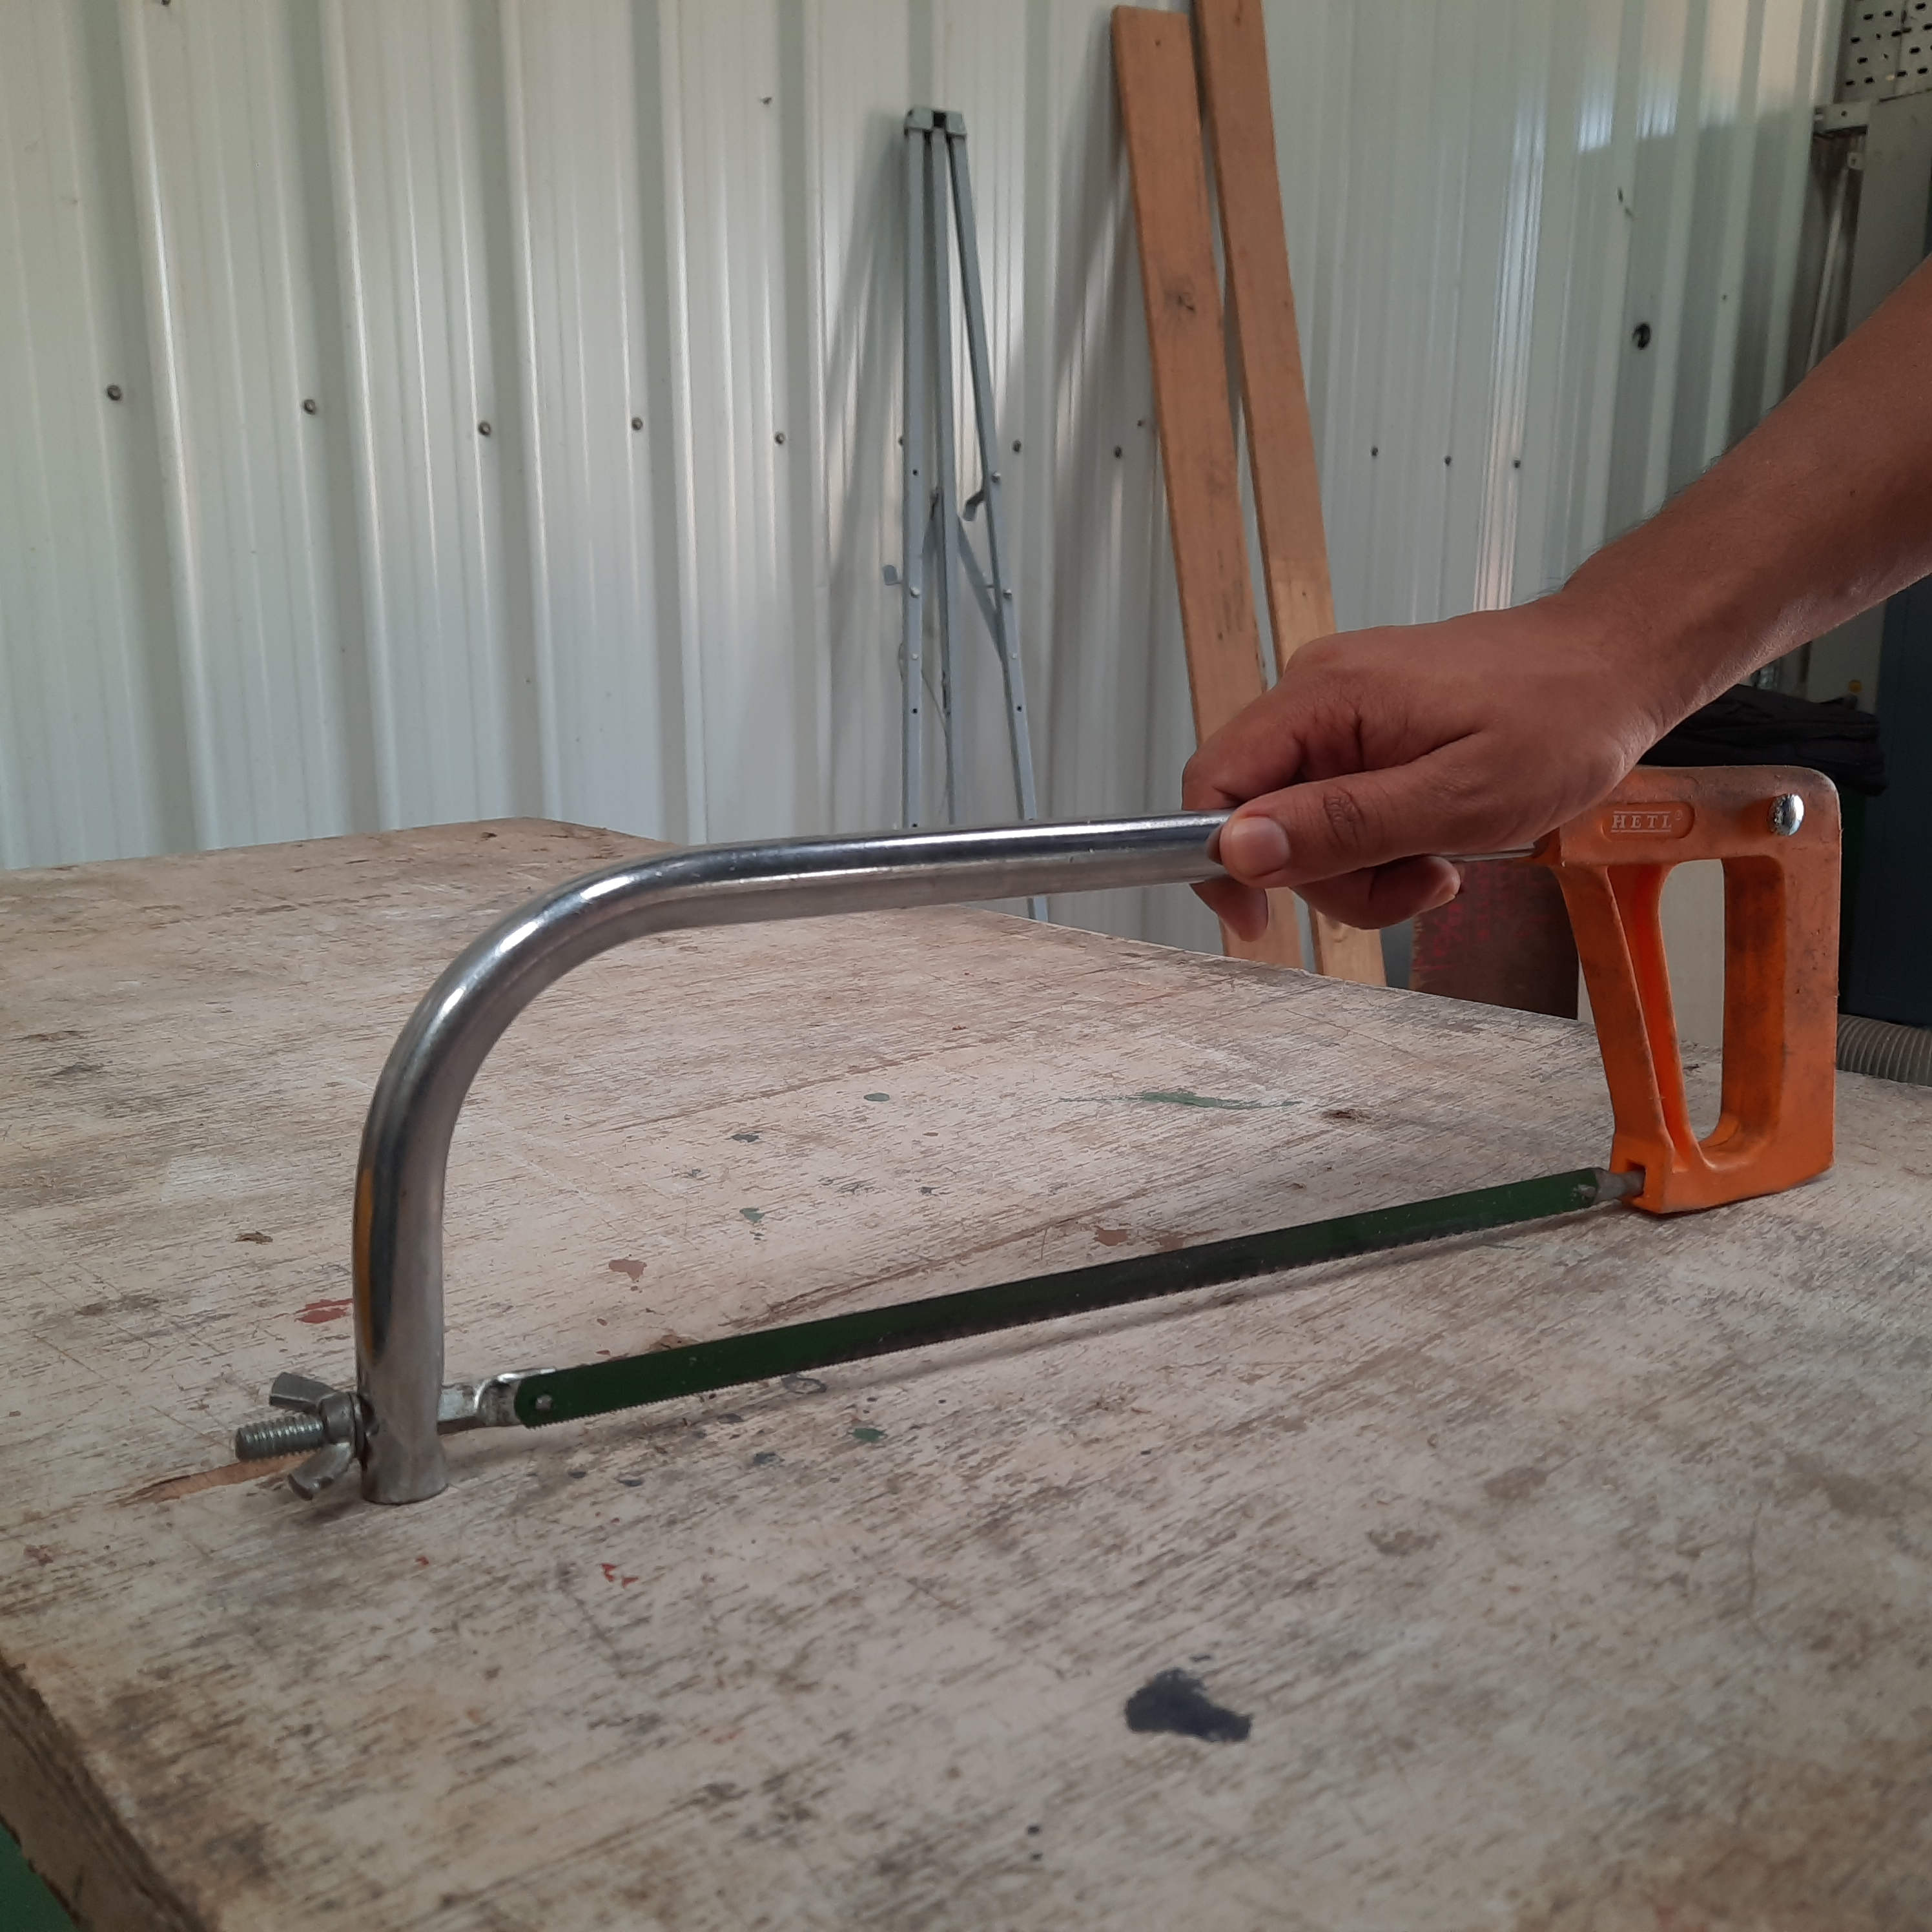Hexaframe: (211, 768, 1865, 1484)
